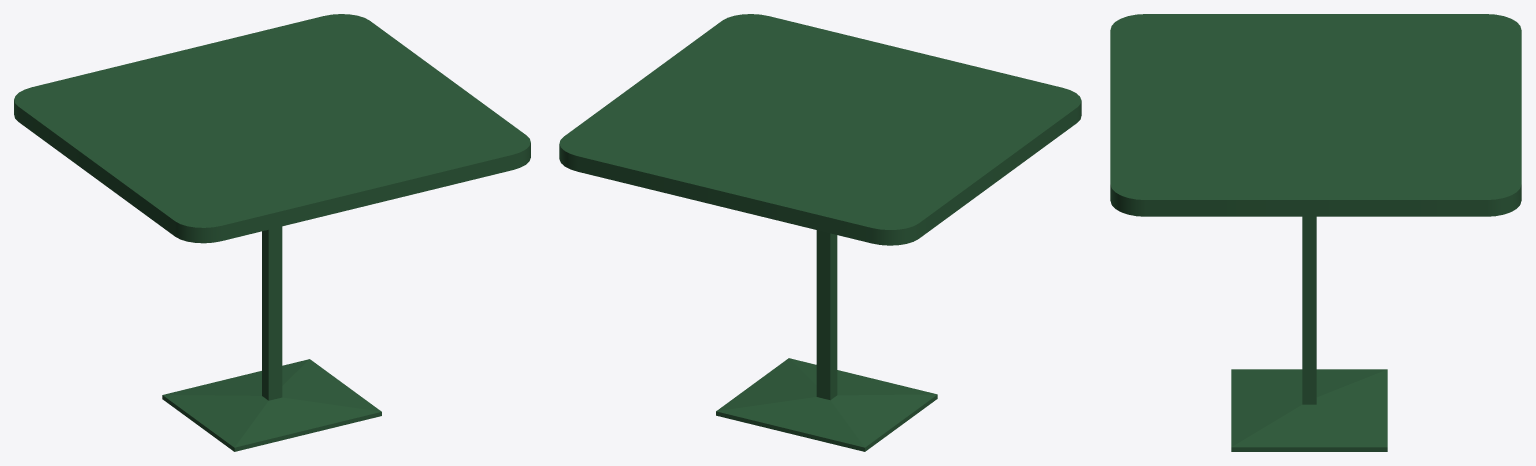
The model's file is plane.120_lev3.glb.
3 renders of one model, left to right at view 1: azimuth 30°, elevation 25°; view 2: azimuth 150°, elevation 25°; view 3: azimuth 270°, elevation 25°, orthographic. The views are drawn at different scales.
Parts seen in each view (by area): view 1: plane.120_lev3; view 2: plane.120_lev3; view 3: plane.120_lev3.
Part boxes in pixels (left/top/right/bottom): plane.120_lev3: left=14, top=14, right=530, bottom=451; plane.120_lev3: left=559, top=14, right=1081, bottom=451; plane.120_lev3: left=1110, top=14, right=1521, bottom=451.
Size of the model in its own units: 0.5563 by 0.4288 by 0.5191.
